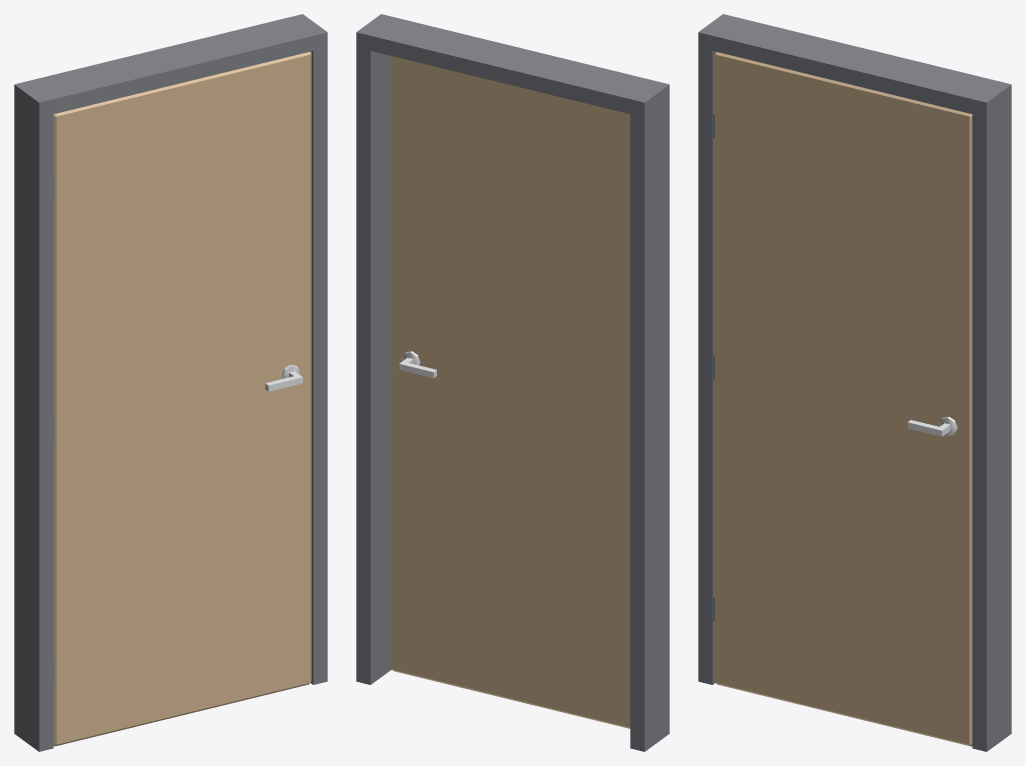
The model's file is door.glb.
3 views of the same model, side by side, from view 1: azimuth 30°, elevation 25°; view 2: azimuth 150°, elevation 25°; view 3: azimuth 330°, elevation 25° (orthographic).
Parts seen in each view (by area): view 1: door; view 2: door; view 3: door.
Boxes of the visible parts, x1,y1,x2,y2 form: door: [14, 14, 327, 751]; door: [356, 14, 669, 751]; door: [698, 14, 1011, 751].
Size of the model in its own units: 1 by 2.15 by 0.21.
